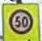limite 50: (8, 8, 33, 34)
